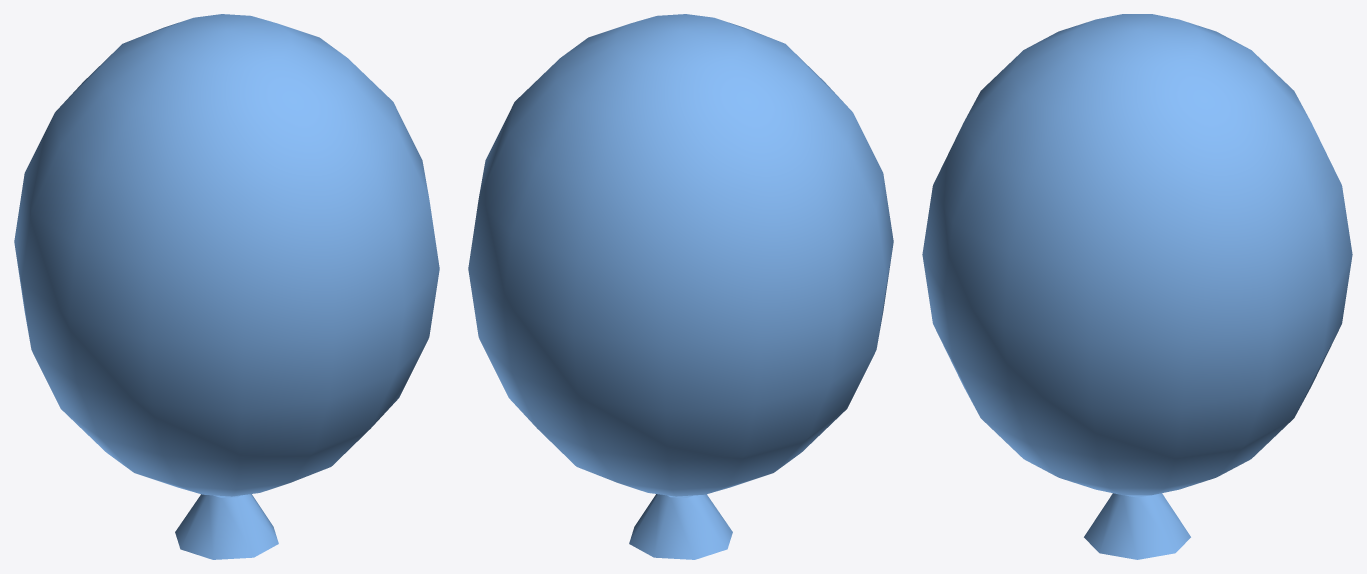
File: WaterBalloon.fbx
3 views of the same model, side by side, from view 1: azimuth 30°, elevation 25°; view 2: azimuth 150°, elevation 25°; view 3: azimuth 270°, elevation 25° (orthographic).
Visible parts, largest first — view 1: WaterBalloon; view 2: WaterBalloon; view 3: WaterBalloon.
Part boxes in pixels (x1,y1,x2,y2): WaterBalloon: (14, 14, 439, 559); WaterBalloon: (468, 14, 893, 559); WaterBalloon: (922, 14, 1352, 559).
Bounding box in the file's own units: 0.39 × 0.52 × 0.4.
